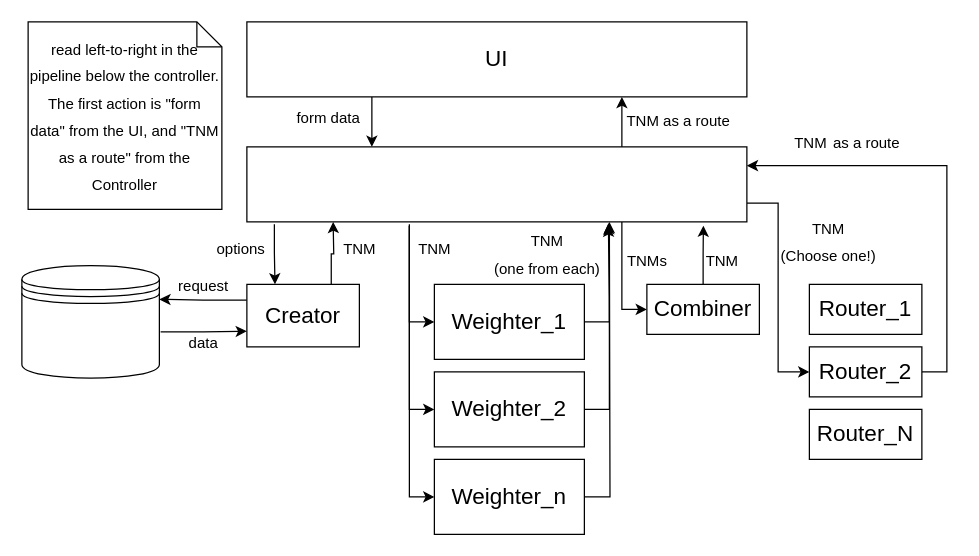
Image size: 979x556. Some labels were removed from this diagram. Here are the shapes that lost their labels. From the top down, the centre of each, then its label:
At point 496,184: "Controller".
At point 90,321: "transport_network".
